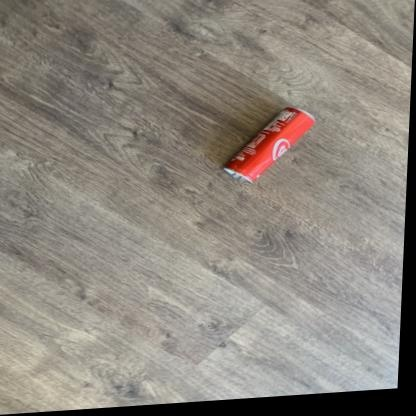trash: (224, 107, 314, 181)
